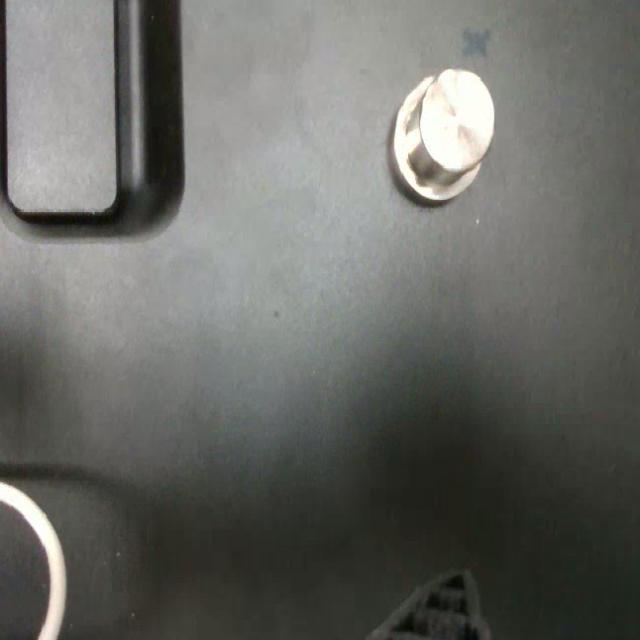sensor: (392, 65, 497, 204)
